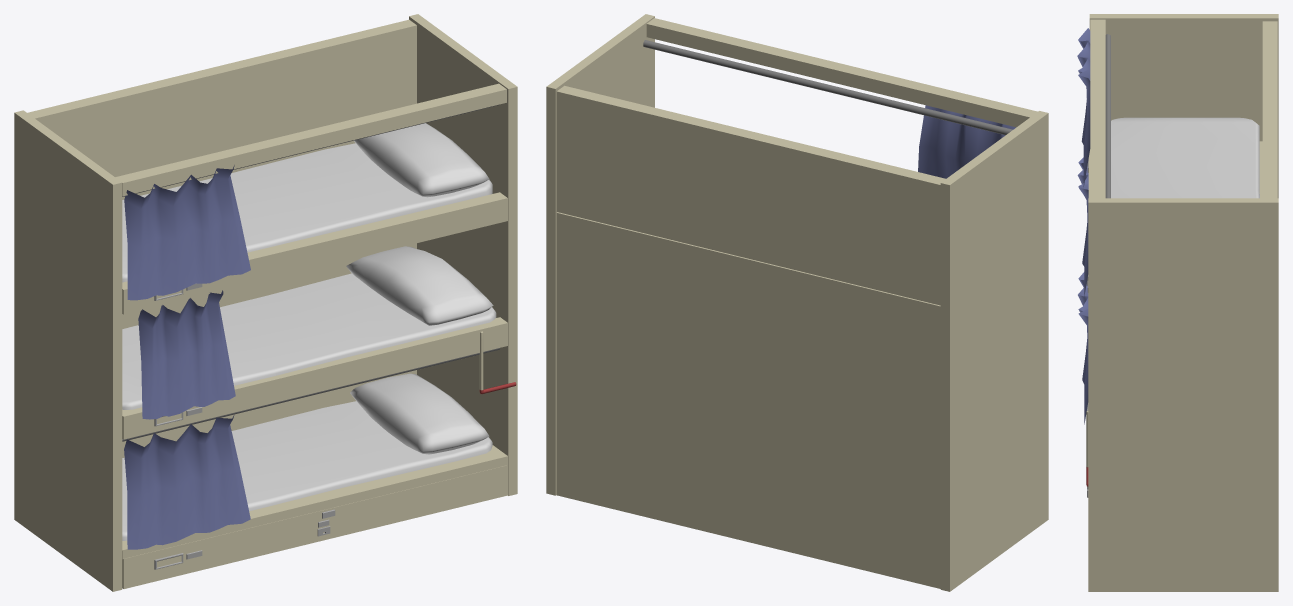
File: WIP_coffinRack.fbx
3 renders of one model, left to right at view 1: azimuth 30°, elevation 25°; view 2: azimuth 150°, elevation 25°; view 3: azimuth 270°, elevation 25°, orthographic. The views are drawn at different scales.
Parts seen in each view (by area): view 1: polySurface157, polySurface154, polySurface143, polySurface135, polySurface136, polySurface132, polySurface140, polySurface133, polySurface156, polySurface152, polySurface153, polySurface139 (+8 smaller); view 2: polySurface149, polySurface154, polySurface150, polySurface157, polySurface143, polySurface151, polySurface140, polySurface142; view 3: polySurface143, polySurface157, polySurface136, polySurface151, polySurface154, polySurface140, polySurface142, polySurface133, polySurface139.
Boxes of the visible parts, x1,y1,x2,y2 form: polySurface157: (14, 110, 122, 591); polySurface154: (27, 19, 416, 199); polySurface143: (409, 14, 517, 495); polySurface135: (122, 273, 496, 409); polySurface136: (122, 143, 492, 282); polySurface132: (122, 401, 492, 540); polySurface140: (124, 165, 250, 300); polySurface133: (124, 414, 250, 549); polySurface156: (122, 465, 507, 588); polySurface152: (122, 192, 507, 314); polySurface153: (122, 317, 507, 439); polySurface139: (138, 290, 235, 419); polySurface149: (556, 333, 940, 588); polySurface154: (556, 85, 945, 305); polySurface150: (556, 212, 940, 426); polySurface157: (940, 111, 1048, 591); polySurface143: (546, 14, 654, 495); polySurface151: (646, 18, 1037, 127); polySurface140: (918, 105, 1015, 178); polySurface142: (643, 40, 1012, 135); polySurface143: (1088, 198, 1278, 591); polySurface157: (1089, 14, 1278, 198); polySurface136: (1111, 117, 1259, 198); polySurface151: (1090, 19, 1105, 198); polySurface154: (1262, 21, 1277, 198); polySurface140: (1077, 28, 1090, 186); polySurface142: (1105, 34, 1110, 198); polySurface133: (1078, 272, 1088, 424); polySurface139: (1077, 157, 1088, 295).
Bounding box in the file's own units: 260 × 251 × 118.
